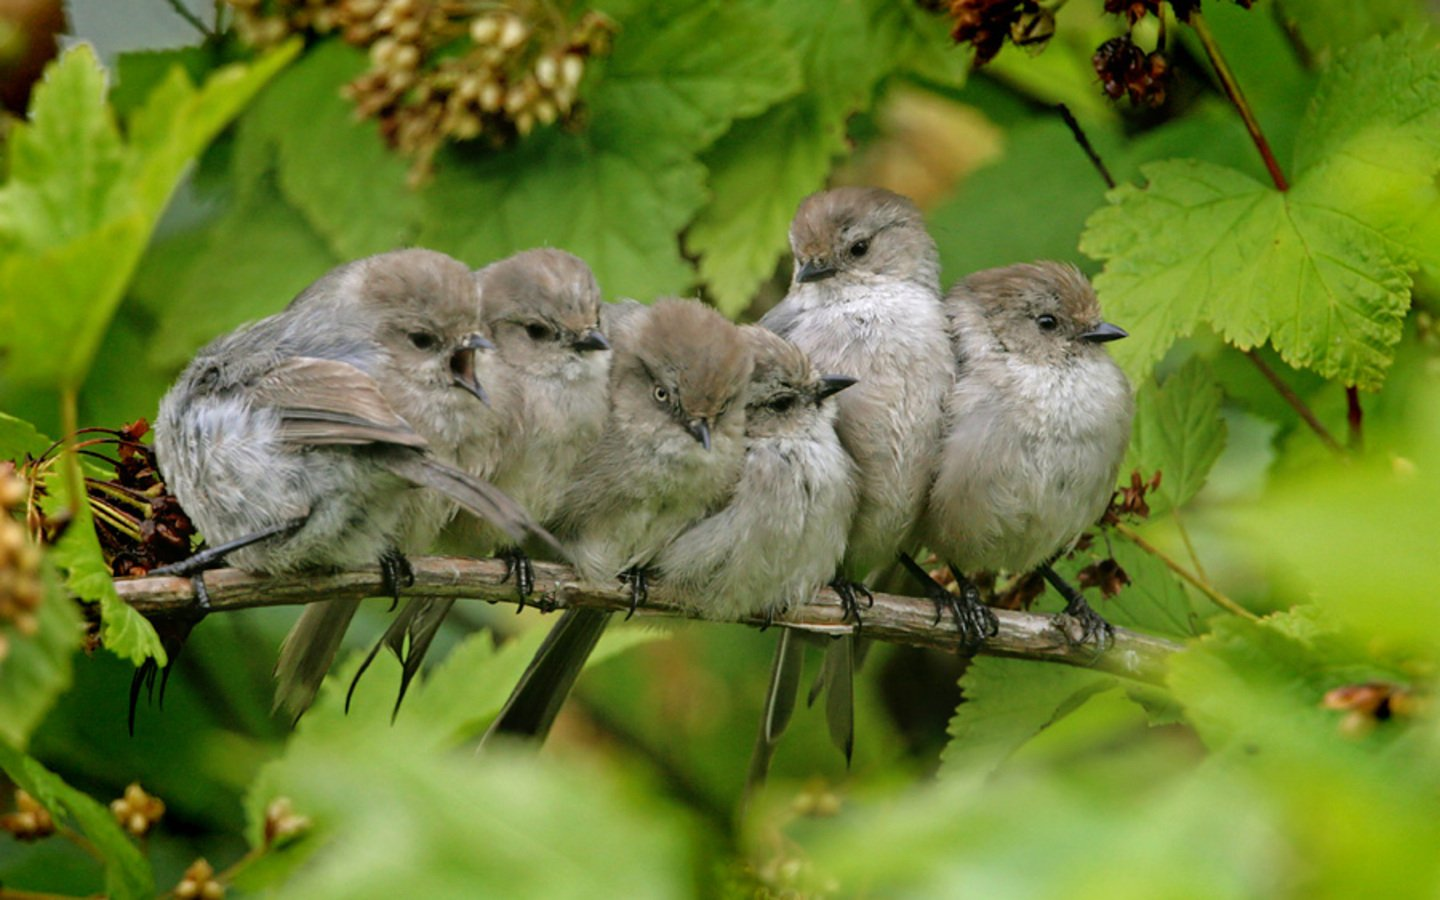bird: (61, 231, 429, 598), (753, 177, 1037, 585), (917, 233, 1164, 666), (307, 198, 502, 598), (459, 240, 648, 598), (696, 293, 886, 639), (602, 268, 764, 617)
